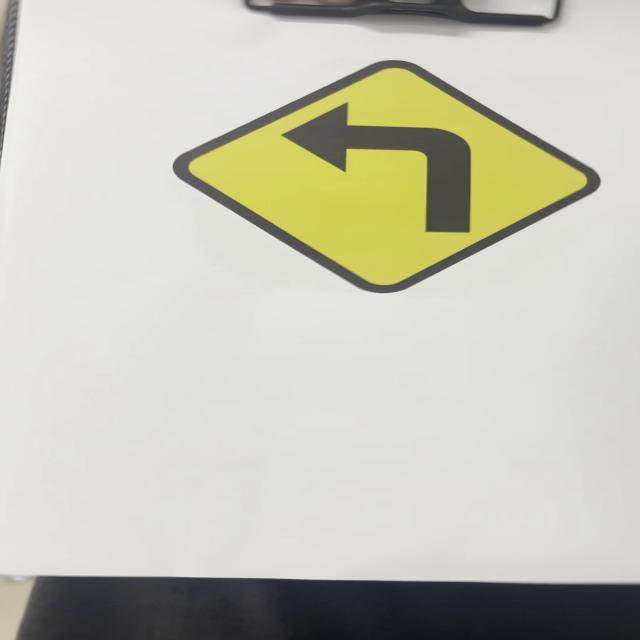left: (176, 62, 605, 296)
